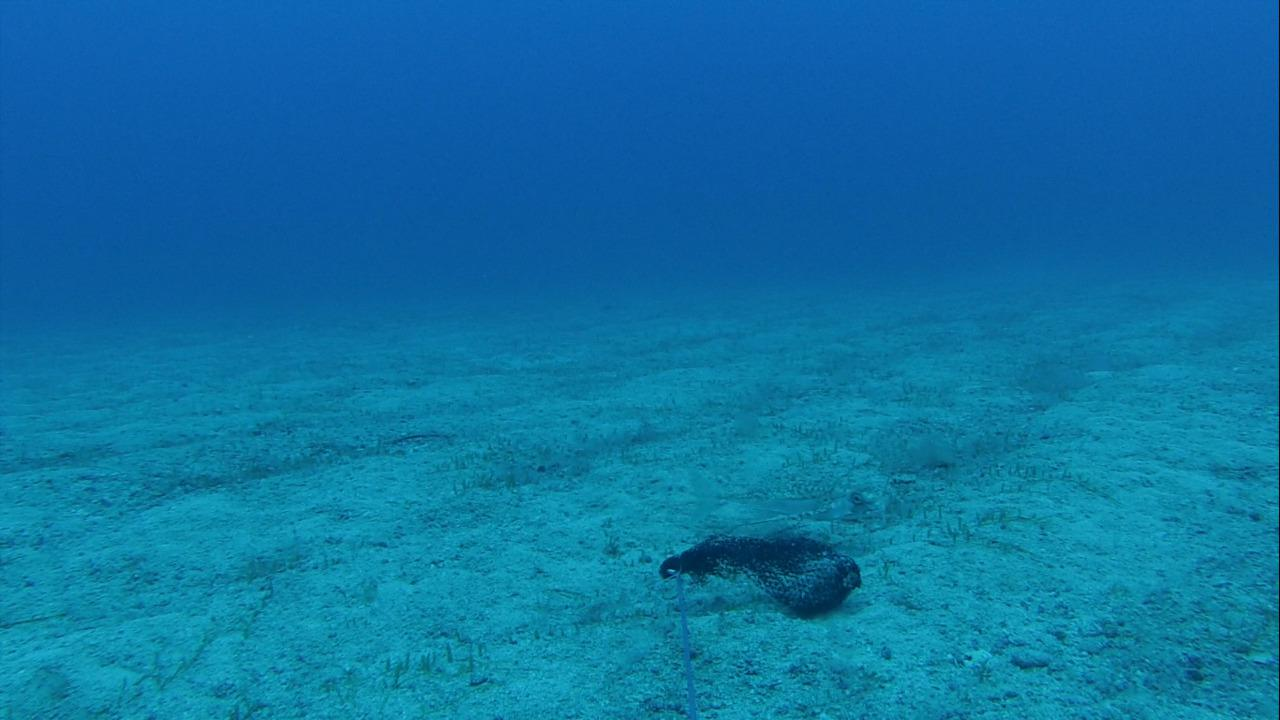dactylopterus: (665, 470, 887, 548)
